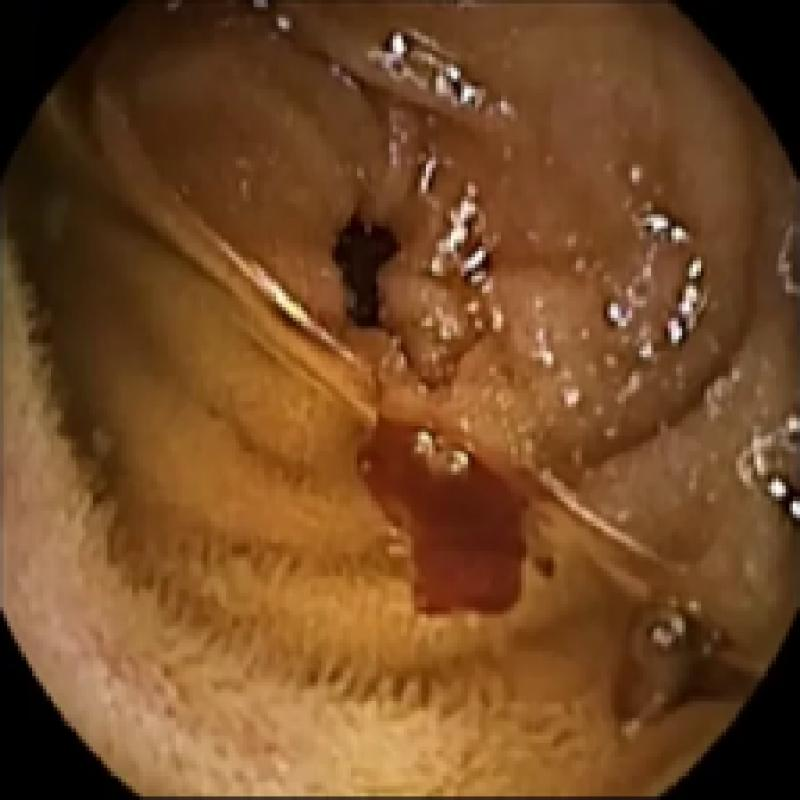bleeding: (351, 421, 552, 615), (339, 214, 407, 325)
